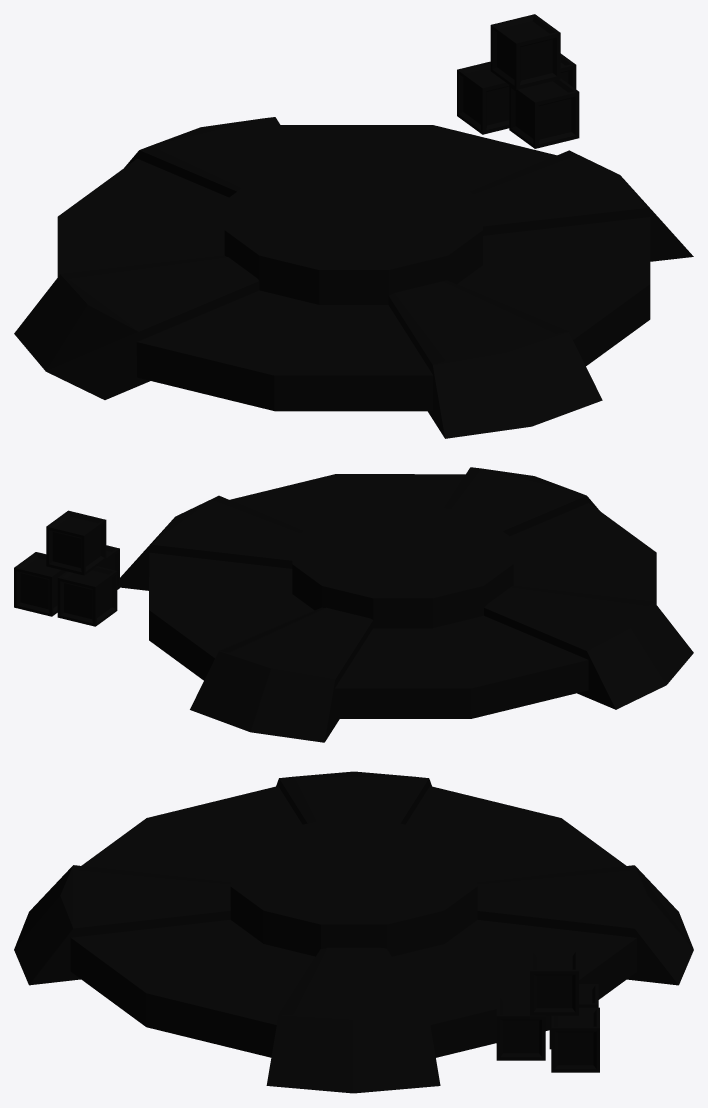
File: Cosmodrome.fbx
3 views of the same model, one above another, from view 1: azimuth 30°, elevation 25°; view 2: azimuth 150°, elevation 25°; view 3: azimuth 270°, elevation 25° (orthographic). The views are drawn at different scales.
Parts seen in each view (by area): view 1: Cube.001, Cube.002, Cube.003, Cube, Cube.004; view 2: Cube.001, Cube.003, Cube.002, Cube, Cube.004; view 3: Cube.001, Cube.002, Cube.003, Cube, Cube.004.
Boxes of the visible parts, x1=… form: Cube.001: x1=14, y1=117, x2=693, y2=438; Cube.002: x1=58, y1=125, x2=650, y2=410; Cube.003: x1=57, y1=125, x2=650, y2=411; Cube: x1=224, y1=161, x2=482, y2=304; Cube.004: x1=457, y1=14, x2=579, y2=148; Cube.001: x1=120, y1=467, x2=693, y2=742; Cube.003: x1=149, y1=474, x2=656, y2=718; Cube.002: x1=149, y1=474, x2=656, y2=718; Cube: x1=292, y1=505, x2=513, y2=628; Cube.004: x1=14, y1=510, x2=119, y2=626; Cube.001: x1=14, y1=771, x2=693, y2=1093; Cube.002: x1=70, y1=786, x2=626, y2=1057; Cube.003: x1=81, y1=786, x2=637, y2=1057; Cube: x1=230, y1=820, x2=477, y2=956; Cube.004: x1=496, y1=950, x2=599, y2=1072.
Bounding box in the file's own units: 150 × 27.85 × 146.
